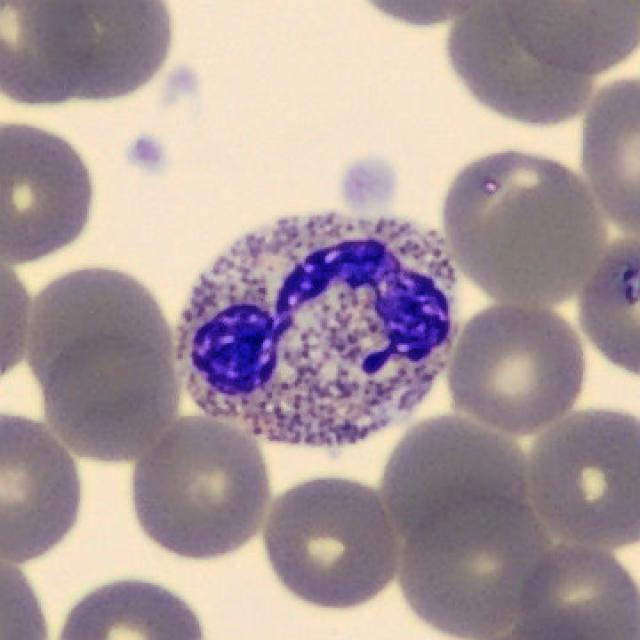Neutrofilo segmentado: (176, 210, 459, 450)
